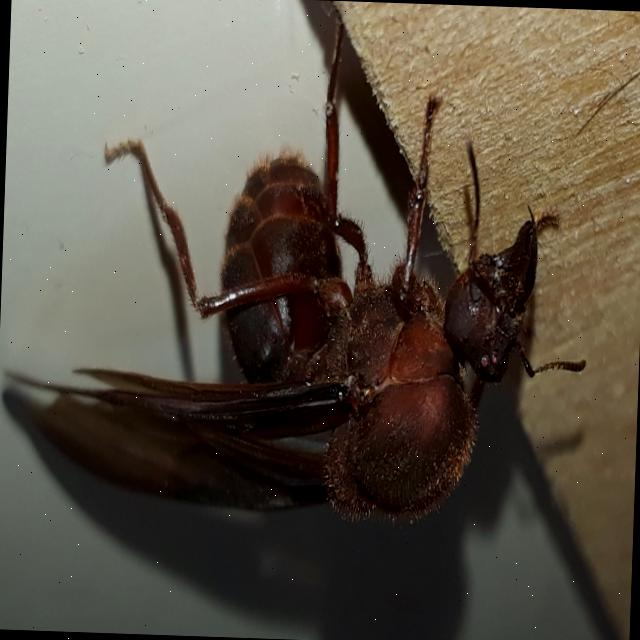Alive-Female-Alate: (0, 12, 599, 530)
